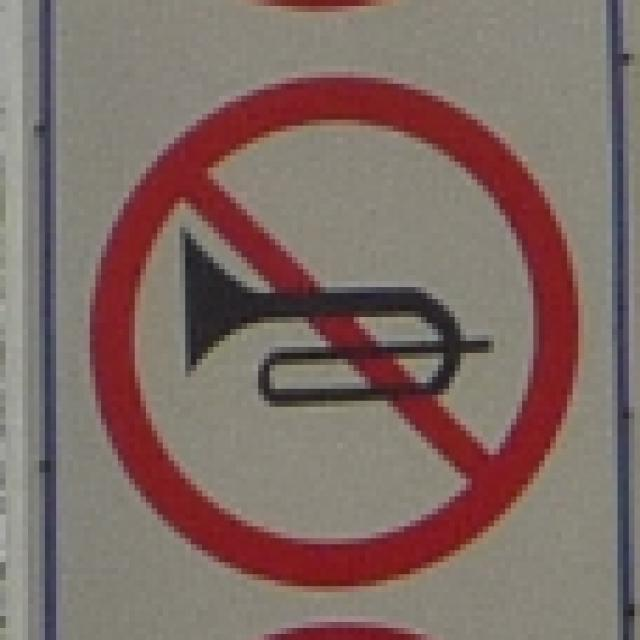No Horn: (92, 74, 572, 585)
